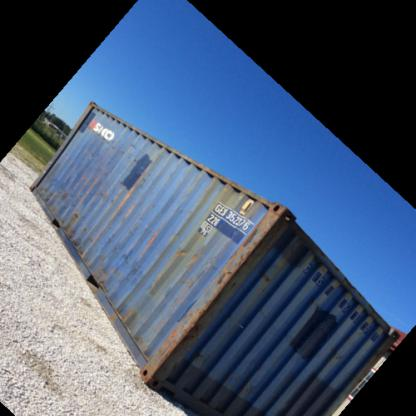Damage: (104, 134, 150, 166), (172, 305, 206, 342), (238, 220, 271, 250), (115, 246, 141, 284), (174, 239, 205, 266), (117, 300, 139, 328), (38, 179, 56, 211), (118, 200, 142, 224), (62, 207, 83, 234), (78, 235, 100, 260), (214, 266, 233, 292), (142, 223, 160, 250), (132, 334, 154, 356), (93, 185, 118, 203), (96, 268, 110, 292), (261, 270, 276, 288), (57, 188, 72, 202)
